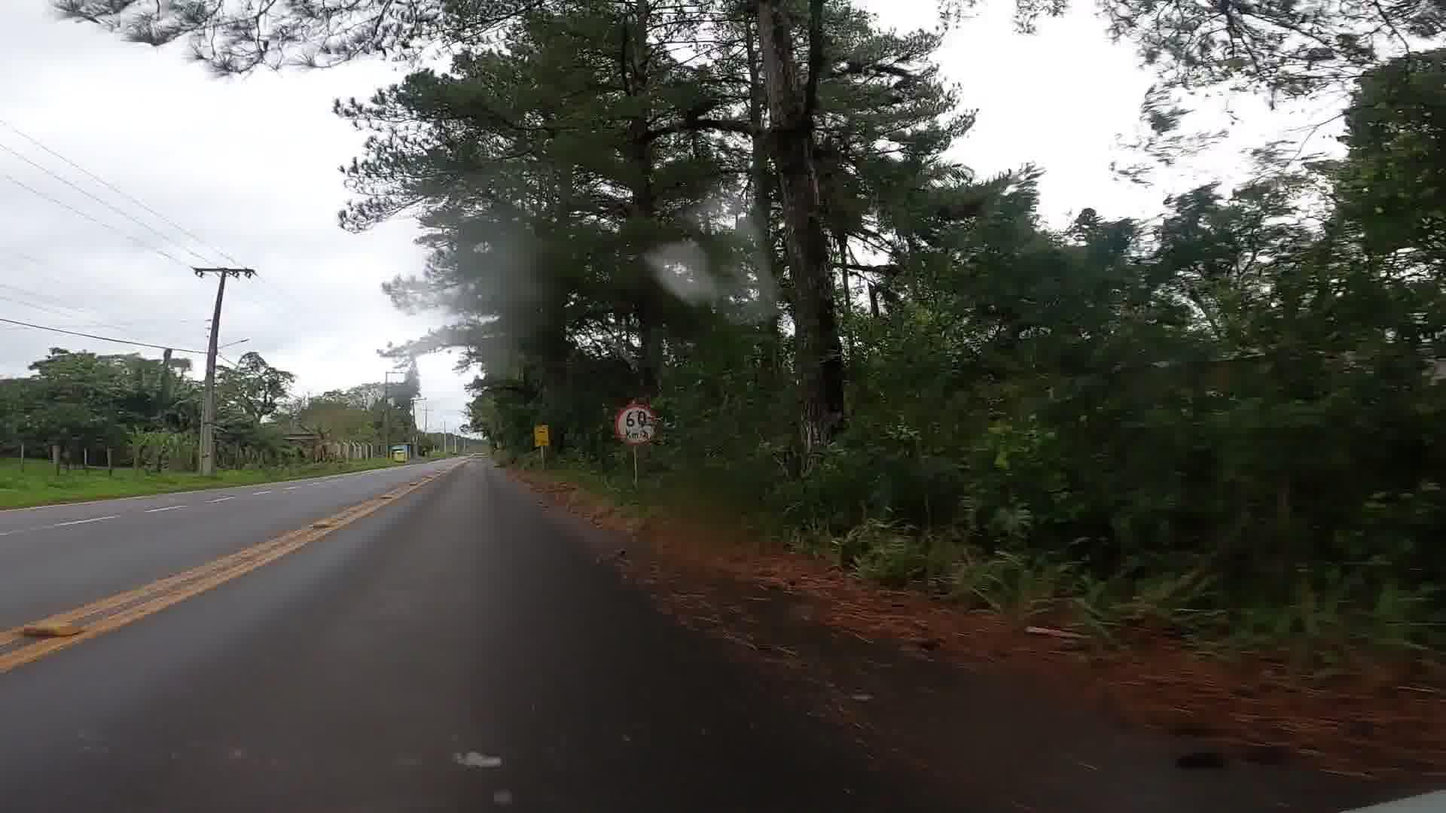R-19: (612, 401, 660, 450)
